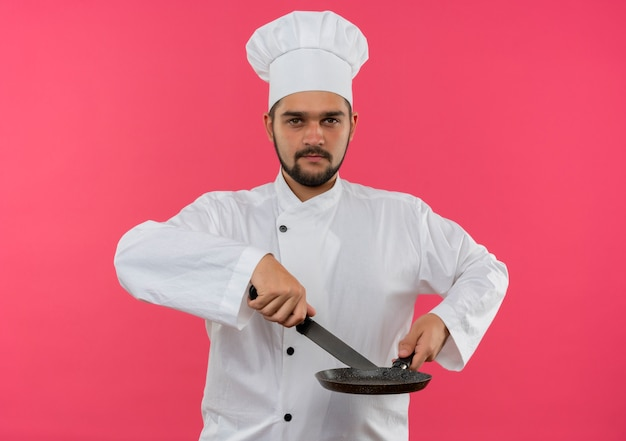knife: (294, 314, 382, 372)
